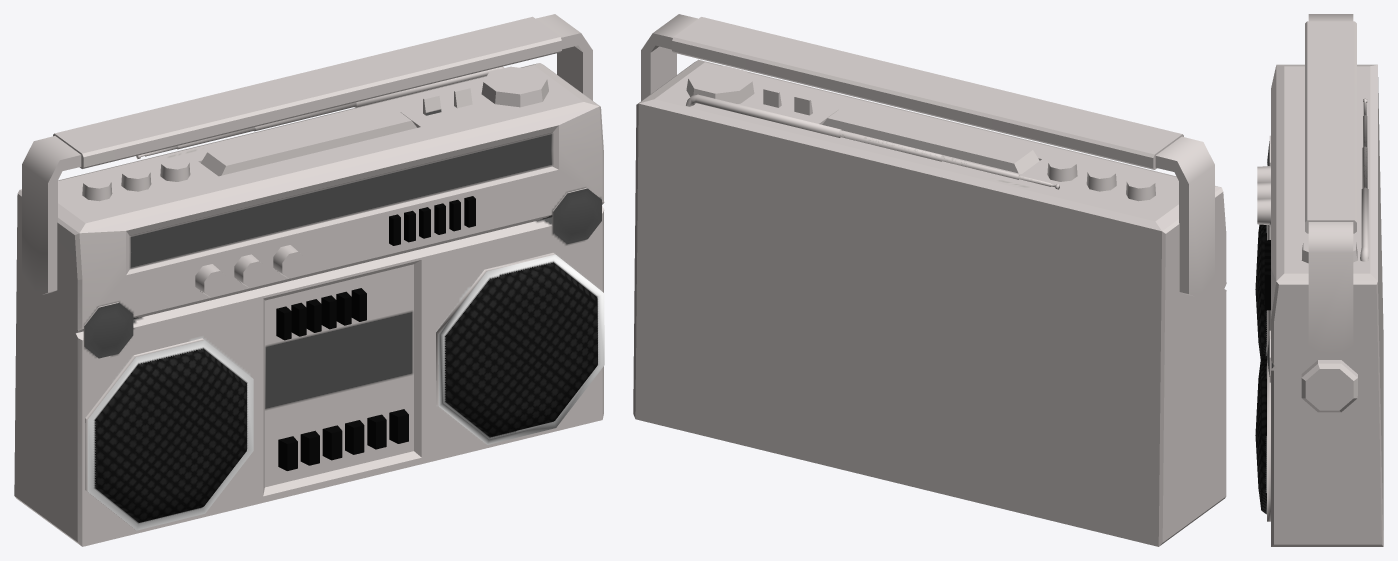
File: Radio.fbx
3 views of the same model, side by side, from view 1: azimuth 30°, elevation 25°; view 2: azimuth 150°, elevation 25°; view 3: azimuth 270°, elevation 25° (orthographic). The views are drawn at different scales.
Parts seen in each view (by area): view 1: Boombox_lp; view 2: Boombox_lp; view 3: Boombox_lp.
Part boxes in pixels (x1,y1,x2,y2): Boombox_lp: (14, 14, 604, 546); Boombox_lp: (633, 14, 1226, 546); Boombox_lp: (1255, 14, 1383, 546).
Bounding box in the file's own units: 32.4 × 21.03 × 7.68.
